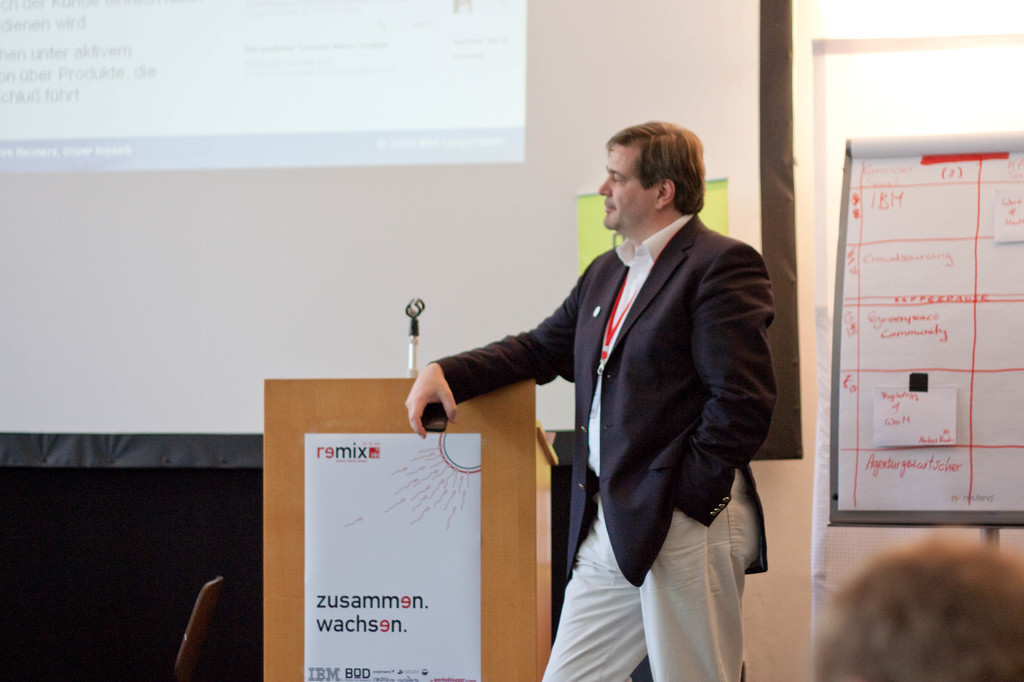Person: (806, 530, 1024, 682)
